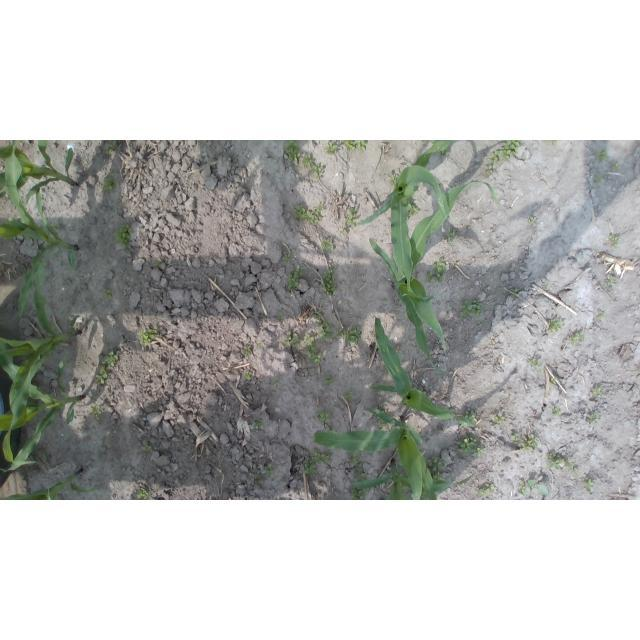Maize: (370, 180, 501, 372), (1, 259, 80, 468), (371, 318, 478, 429), (314, 406, 437, 500), (0, 343, 84, 473), (0, 190, 78, 317), (359, 141, 456, 228), (1, 140, 78, 222), (352, 461, 471, 500), (0, 468, 100, 499)
Weeds: (489, 141, 523, 164), (293, 204, 325, 224), (304, 334, 324, 365), (319, 263, 337, 296), (302, 153, 324, 180), (113, 224, 134, 251), (512, 435, 540, 454), (458, 437, 485, 456), (546, 451, 574, 469), (459, 299, 484, 317), (527, 476, 549, 496), (311, 449, 336, 466), (284, 141, 301, 166), (137, 328, 158, 348), (336, 327, 360, 344), (288, 265, 304, 290), (426, 262, 446, 282), (316, 323, 334, 342), (340, 140, 367, 152), (101, 350, 117, 370), (547, 318, 566, 334), (426, 456, 444, 472), (283, 334, 301, 349), (346, 207, 358, 229), (316, 408, 332, 424), (95, 367, 109, 385), (351, 486, 369, 500), (568, 332, 585, 346), (323, 140, 337, 156), (89, 404, 102, 421), (492, 412, 507, 426), (478, 484, 494, 497), (604, 276, 616, 293), (320, 237, 334, 251), (303, 464, 317, 477), (584, 477, 597, 491), (530, 359, 543, 373), (348, 452, 360, 467), (407, 204, 419, 219), (445, 228, 456, 244), (610, 235, 623, 248), (464, 412, 477, 425), (104, 140, 116, 154), (103, 180, 117, 192), (595, 149, 609, 161), (387, 173, 398, 188), (136, 488, 148, 500), (588, 413, 601, 424), (264, 464, 275, 476), (102, 288, 112, 301), (518, 482, 527, 496), (324, 375, 335, 386), (243, 371, 254, 382), (379, 419, 389, 431), (400, 484, 411, 494), (343, 391, 353, 402), (484, 164, 493, 176), (433, 472, 445, 481), (51, 223, 61, 233), (243, 347, 253, 357), (595, 311, 605, 321), (283, 252, 294, 261), (595, 177, 606, 186), (314, 312, 321, 326), (592, 387, 602, 396), (510, 288, 519, 298), (254, 476, 265, 484), (358, 473, 369, 481), (253, 420, 262, 429), (352, 468, 361, 477), (612, 164, 621, 173), (378, 403, 386, 413), (5, 218, 17, 224), (272, 377, 280, 386), (552, 408, 561, 416), (142, 445, 152, 452), (544, 140, 558, 145), (276, 312, 284, 320), (340, 230, 349, 237), (573, 468, 580, 477), (155, 259, 162, 267), (442, 148, 449, 156), (528, 216, 535, 224), (550, 379, 556, 386), (478, 324, 485, 329), (331, 428, 338, 432), (419, 140, 425, 144), (544, 283, 549, 287), (431, 140, 435, 144), (568, 497, 572, 500)
